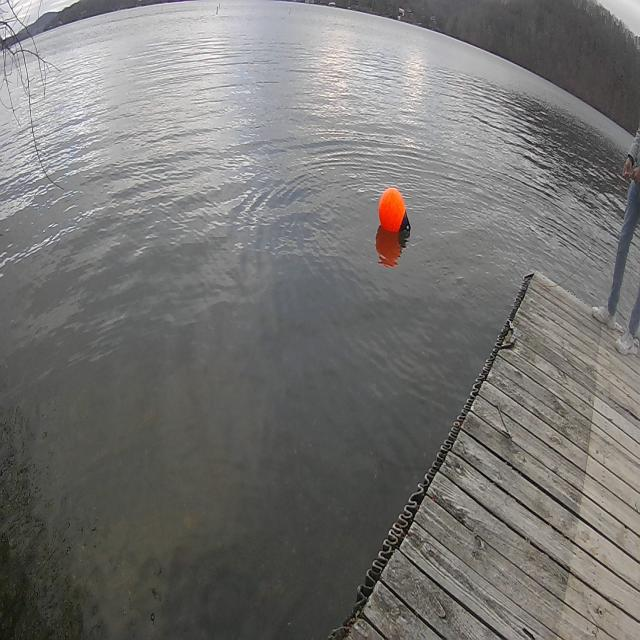Buoy: (374, 182, 414, 249)
